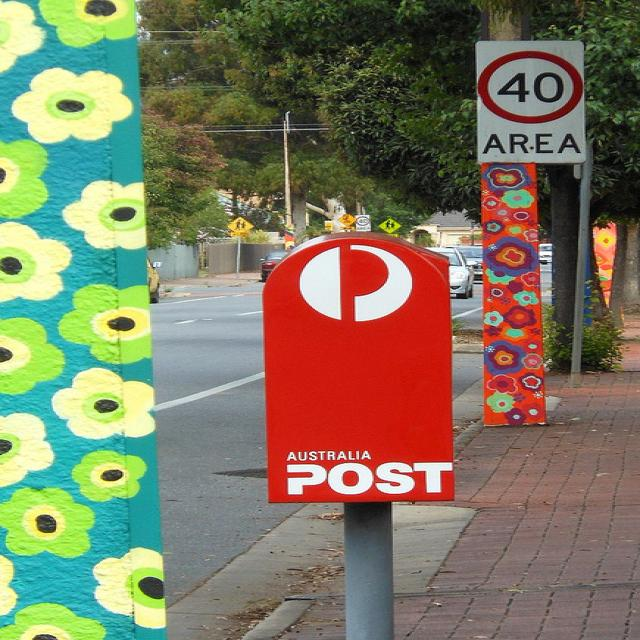Vehicle: (422, 247, 477, 299), (456, 245, 485, 282), (260, 249, 291, 283), (146, 256, 160, 294), (538, 243, 553, 265)
